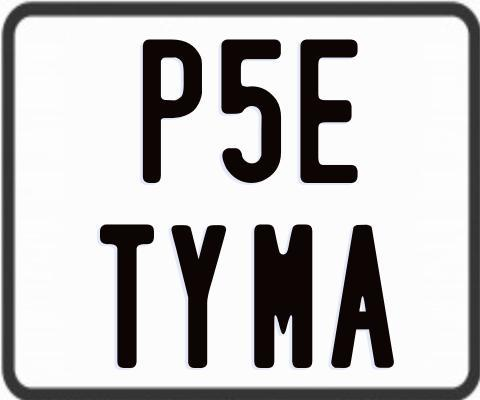5: (219, 38, 279, 186)
A: (331, 223, 394, 367)
E: (300, 37, 363, 187)
M: (253, 221, 311, 367)
P: (140, 38, 202, 186)
T: (97, 223, 151, 371)
Y: (168, 224, 225, 373)
